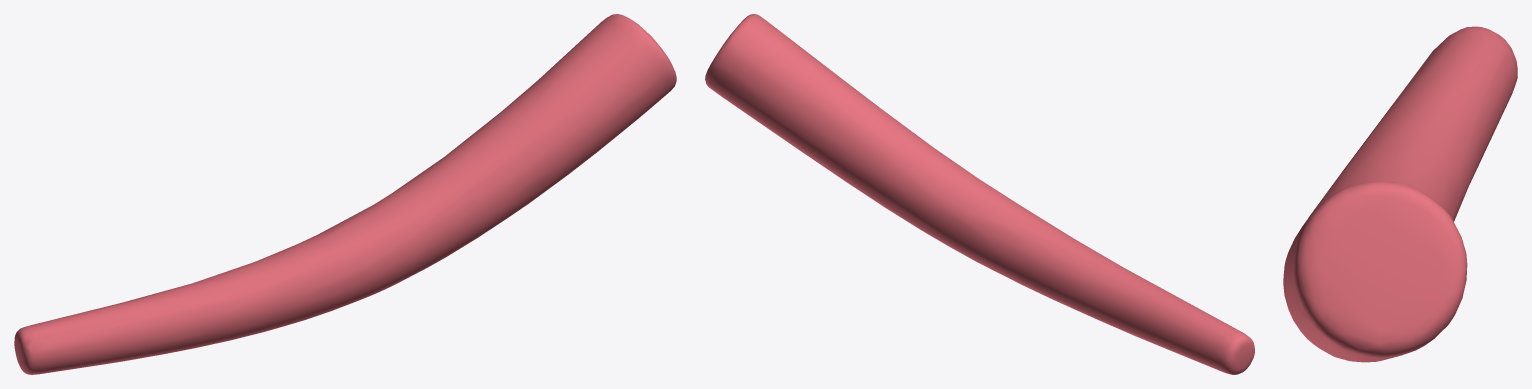
File: fma8631_fj6076.glb
3 views of the same model, side by side, from view 1: azimuth 30°, elevation 25°; view 2: azimuth 150°, elevation 25°; view 3: azimuth 270°, elevation 25° (orthographic). The views are drawn at different scales.
Parts seen in each view (by area): view 1: FMA8631_FJ6076; view 2: FMA8631_FJ6076; view 3: FMA8631_FJ6076.
Part boxes in pixels (x1,y1,x2,y2): FMA8631_FJ6076: (14,14,676,374); FMA8631_FJ6076: (705,14,1254,374); FMA8631_FJ6076: (1283,26,1517,362).
Size of the model in its own units: 0.0321 by 0.0117 by 0.00584.
